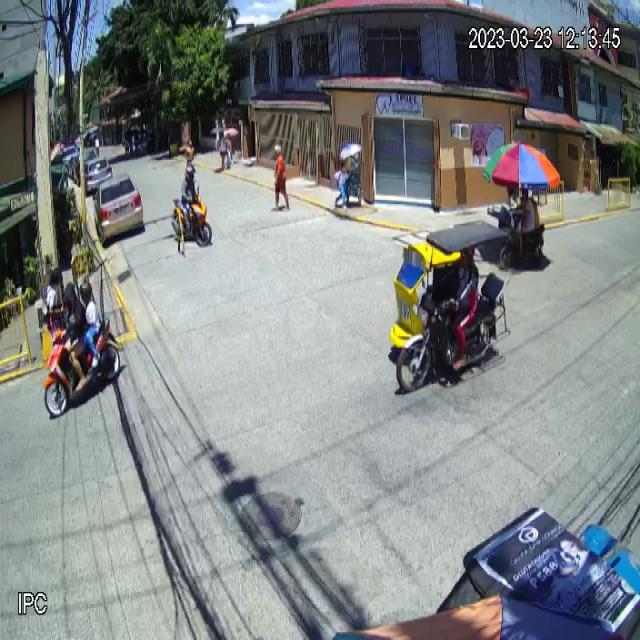Motorcycle: (43, 310, 124, 418), (170, 183, 215, 248)
Tricycle: (388, 220, 512, 390)
